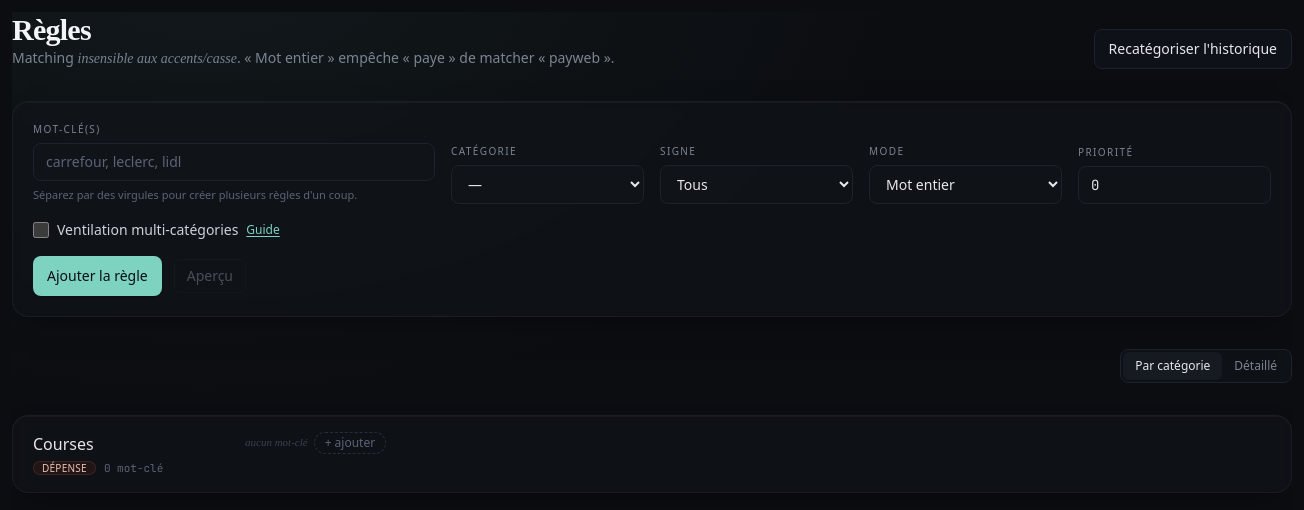
Test case: Rules page (characterization) › creates a rule via the top form
Expected: the text "Courses" is shown, x1=33 y1=432 x2=94 y2=456
Step 1. Type "new-kw" into the field labelled "Mot-clé(s)" → [234, 162], box x1=33 y1=143 x2=435 y2=181
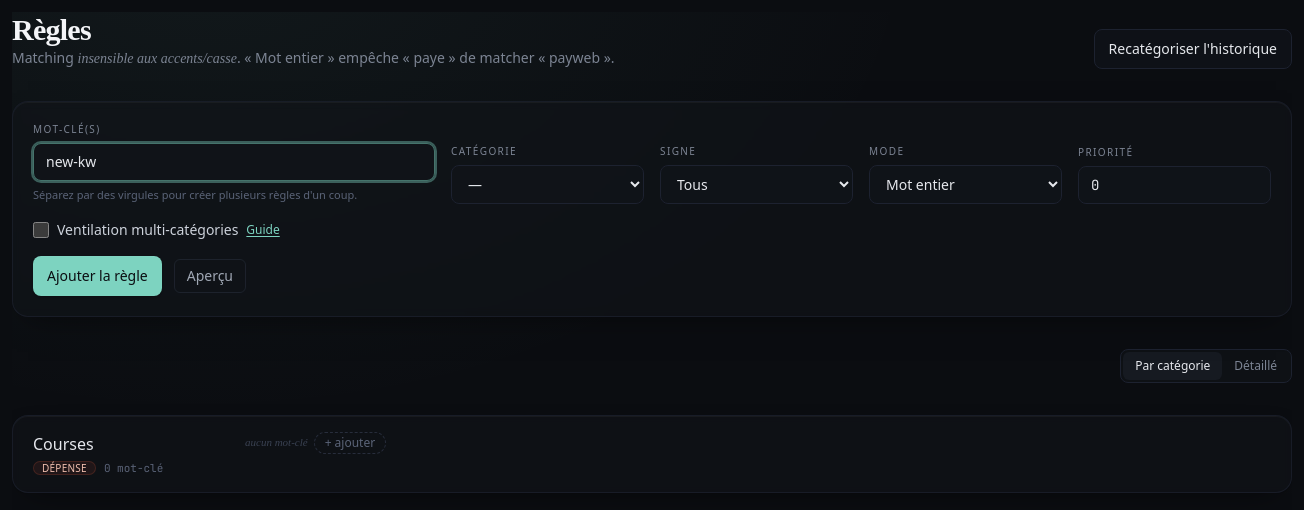
Step 2. Select "Courses" in the dropdown labelled "Catégorie" → [548, 184], box x1=451 y1=164 x2=644 y2=204
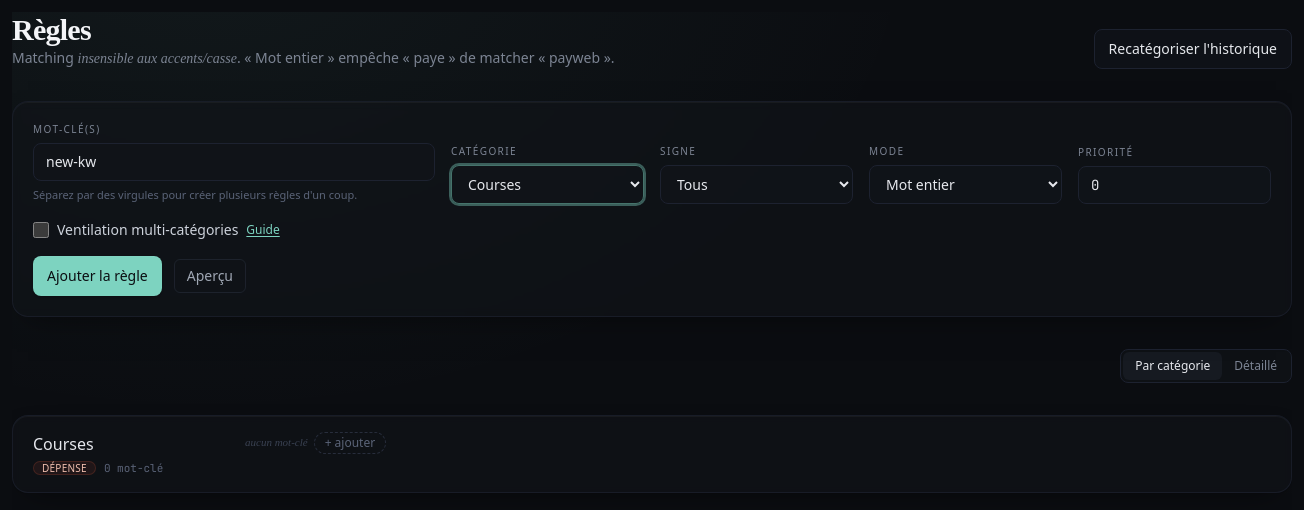
Step 3. Click the button "Ajouter la règle" → [97, 276], box x1=33 y1=256 x2=162 y2=296
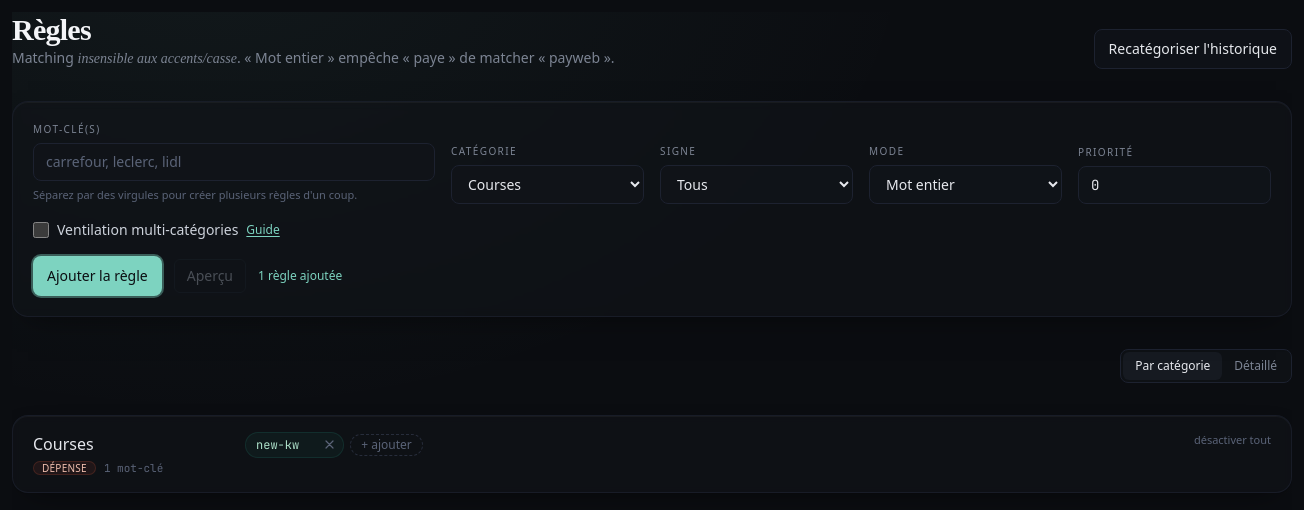
Now the button "new-kw" is shown, box x1=256 y1=434 x2=299 y2=454
